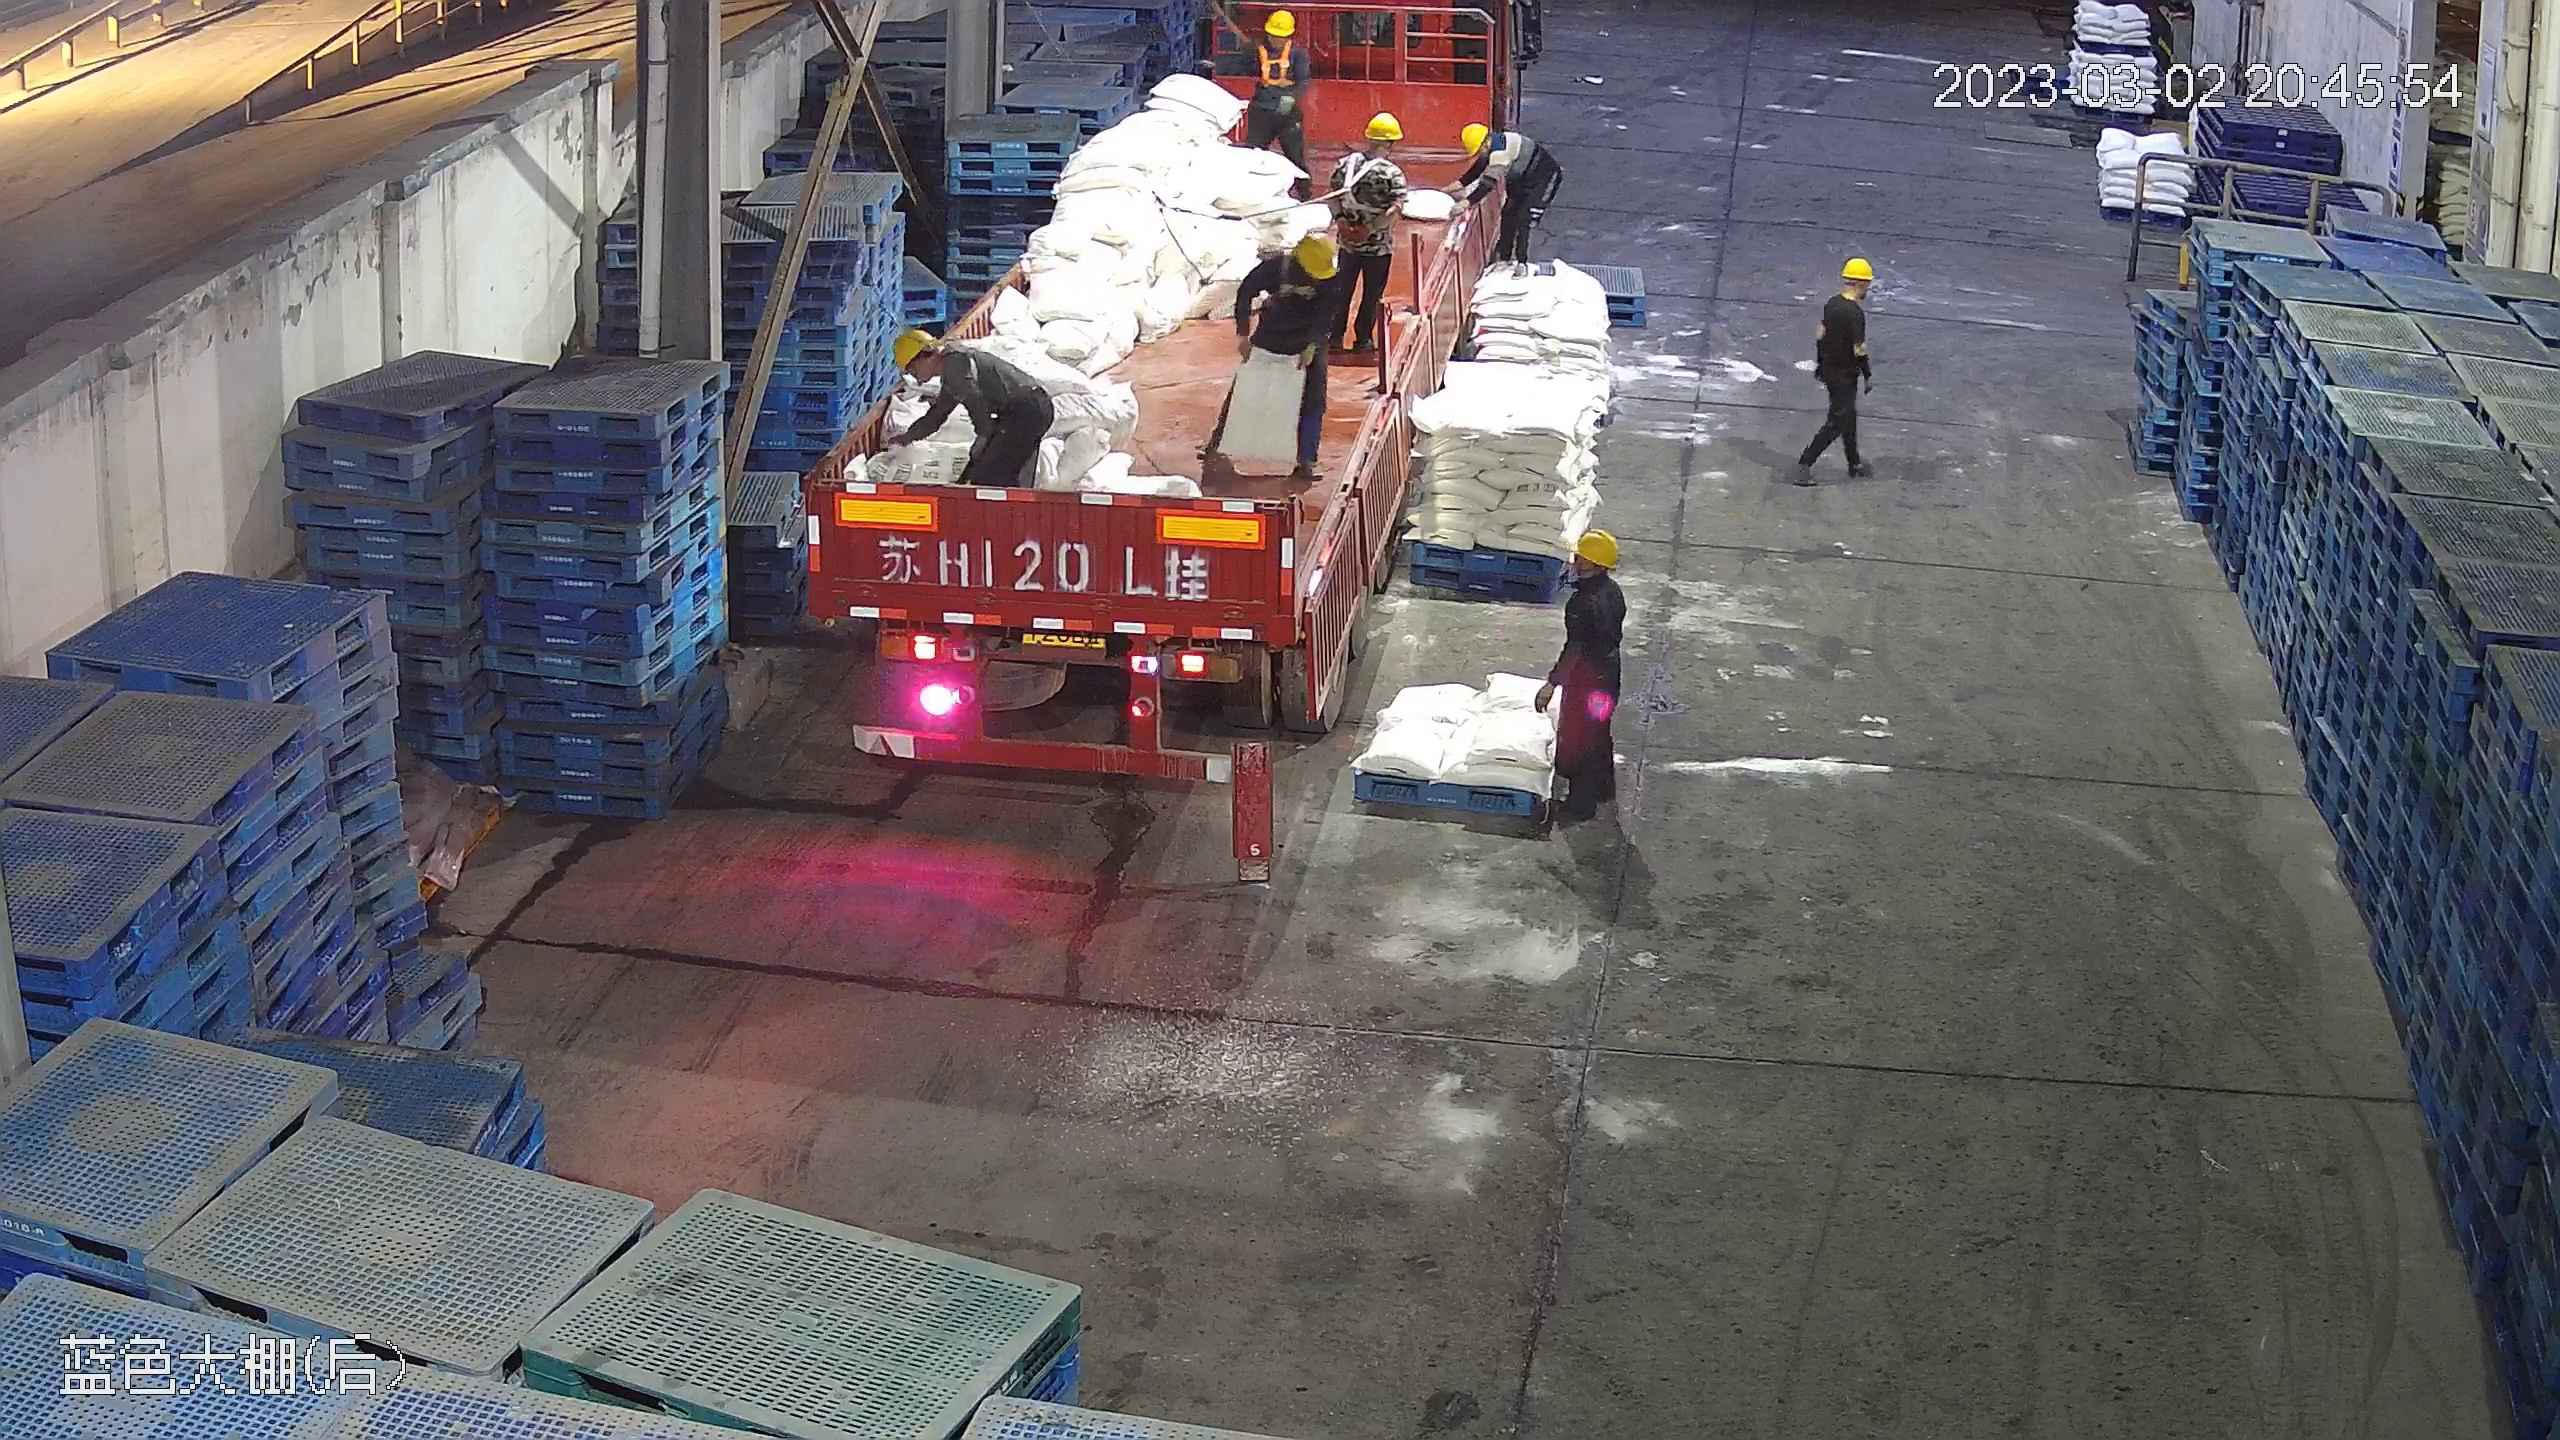belt: (944, 324, 1012, 403), (1250, 231, 1325, 300), (1334, 154, 1391, 217), (1255, 35, 1303, 89)
head: (893, 327, 996, 411), (1554, 526, 1627, 630), (1254, 229, 1344, 302), (1337, 111, 1406, 182), (1458, 122, 1531, 179), (1820, 255, 1875, 325), (1252, 8, 1308, 65)
helmet: (1557, 526, 1626, 625), (1290, 230, 1338, 282), (893, 325, 938, 373), (1566, 526, 1618, 566), (1359, 111, 1403, 142), (1459, 121, 1491, 153), (1265, 8, 1297, 36), (1840, 256, 1874, 282)
people: (1230, 231, 1350, 482), (877, 329, 1058, 491), (1537, 529, 1628, 827), (1323, 110, 1408, 366), (1790, 253, 1879, 487), (1451, 118, 1561, 275), (1225, 9, 1318, 186)
truck: (832, 16, 1502, 777)
